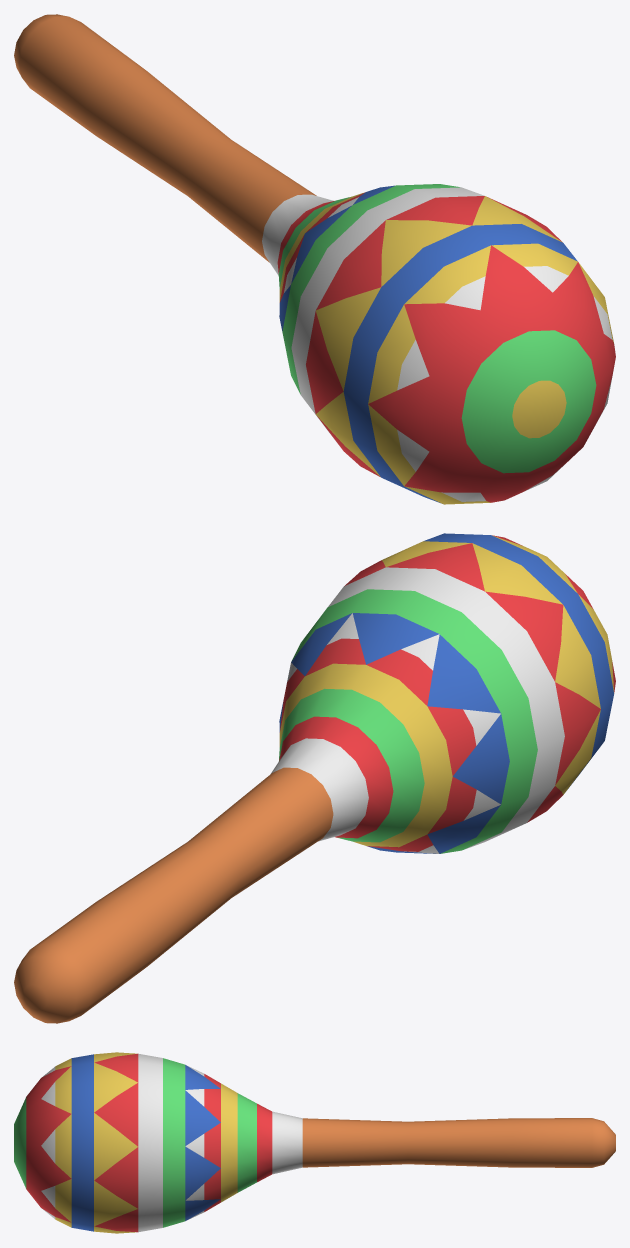
The model's file is Maraca_01.fbx.
The picture shows the model from 3 angles, top to bottom: view 1: azimuth 30°, elevation 25°; view 2: azimuth 150°, elevation 25°; view 3: azimuth 270°, elevation 25°; orthographic projection. The views are drawn at different scales.
Visible parts, largest first — view 1: Maraca_01; view 2: Maraca_01; view 3: Maraca_01.
Part boxes in pixels (x1,y1,x2,y2): Maraca_01: (14, 14, 615, 504); Maraca_01: (14, 533, 615, 1023); Maraca_01: (14, 1052, 615, 1233).
Bounding box in the file's own units: 0.1402 × 0.1402 × 0.4652.
